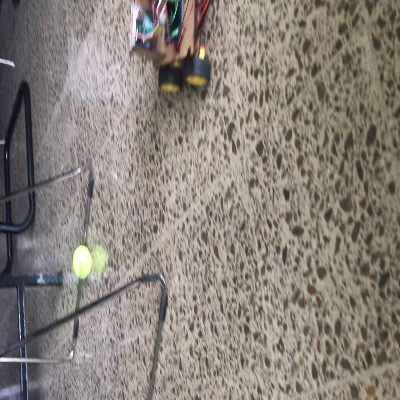Ball: (70, 247, 92, 278)
Robot: (130, 2, 210, 92)
